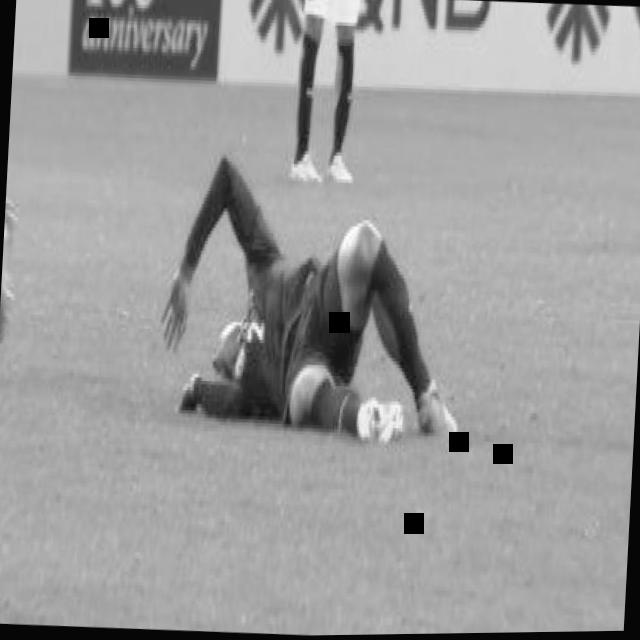Fall-Detected: (151, 110, 472, 459)
